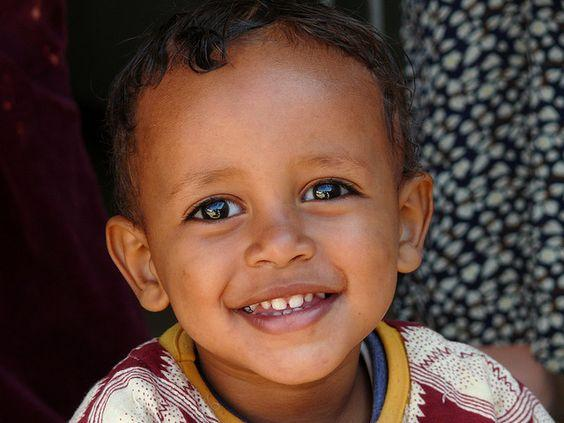Healthy: (88, 77, 473, 398)
